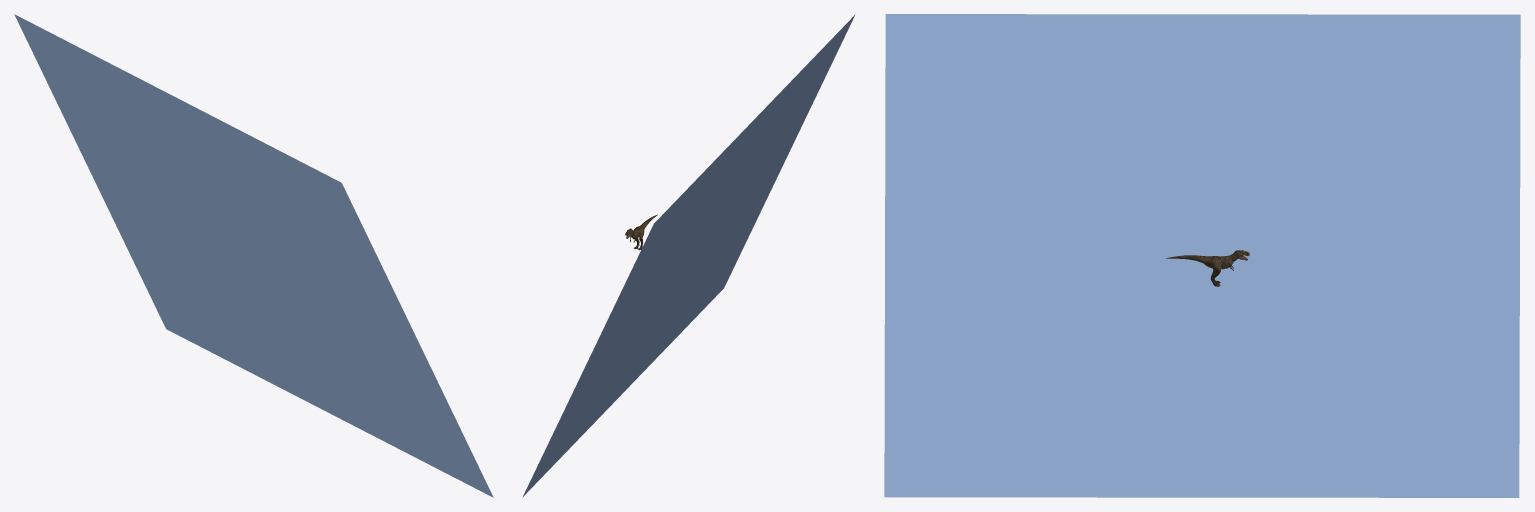
Rendered from dinosaur.obj.
3 views of the same model, side by side, from view 1: azimuth 30°, elevation 25°; view 2: azimuth 150°, elevation 25°; view 3: azimuth 270°, elevation 25° (orthographic). The views are drawn at different scales.
Parts seen in each view (by area): view 1: Plane001; view 2: Plane001; view 3: Plane001, Trex_Rigged.
Boxes of the visible parts, left/top/right/bottom form: Plane001: left=14, top=14, right=493, bottom=497; Plane001: left=522, top=14, right=855, bottom=497; Plane001: left=884, top=14, right=1520, bottom=497; Trex_Rigged: left=1166, top=250, right=1249, bottom=286.
Bounding box in the file's own units: 3720 × 6694 × 9046.
